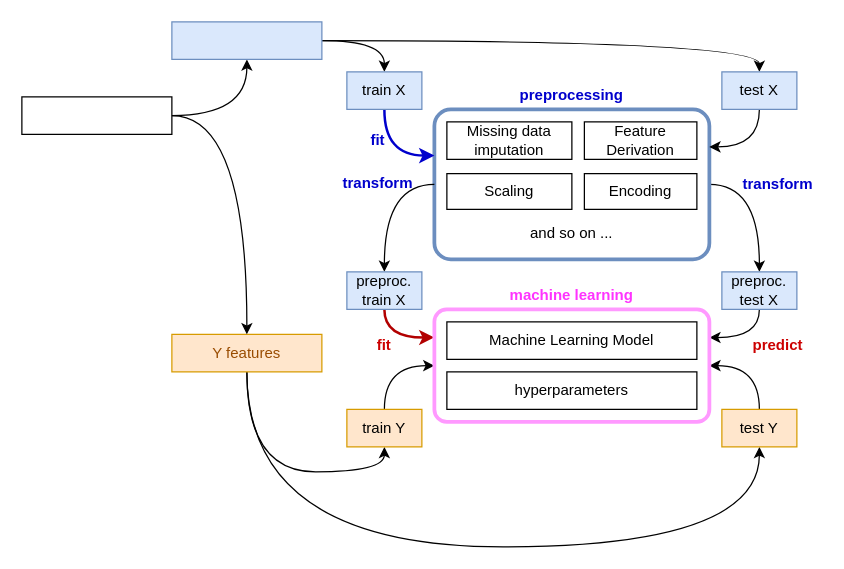
Image size: 844x569. Some labels were removed from this diagram. Each missing label, with the centre of its shape:
data: point (96, 115)
X features: point (246, 40)
